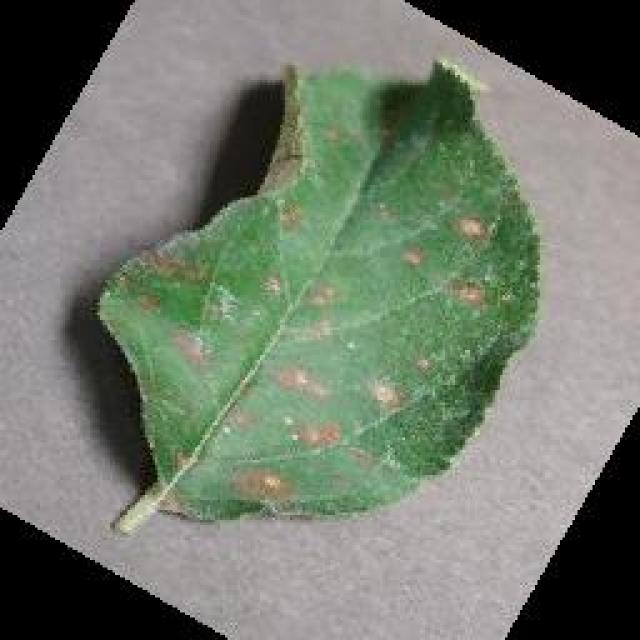apple scab disease: (92, 55, 542, 533)
